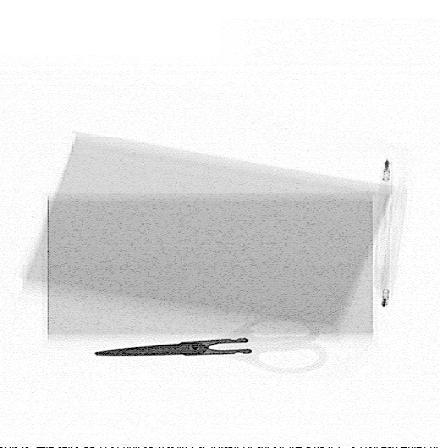Scissors: (94, 313, 332, 376)
